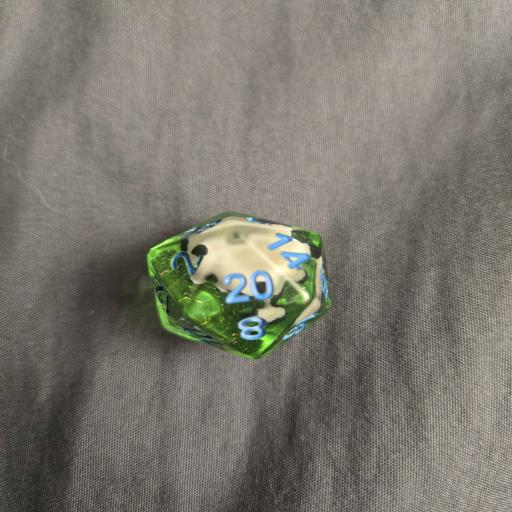twenty sided dice: (146, 210, 331, 360)
